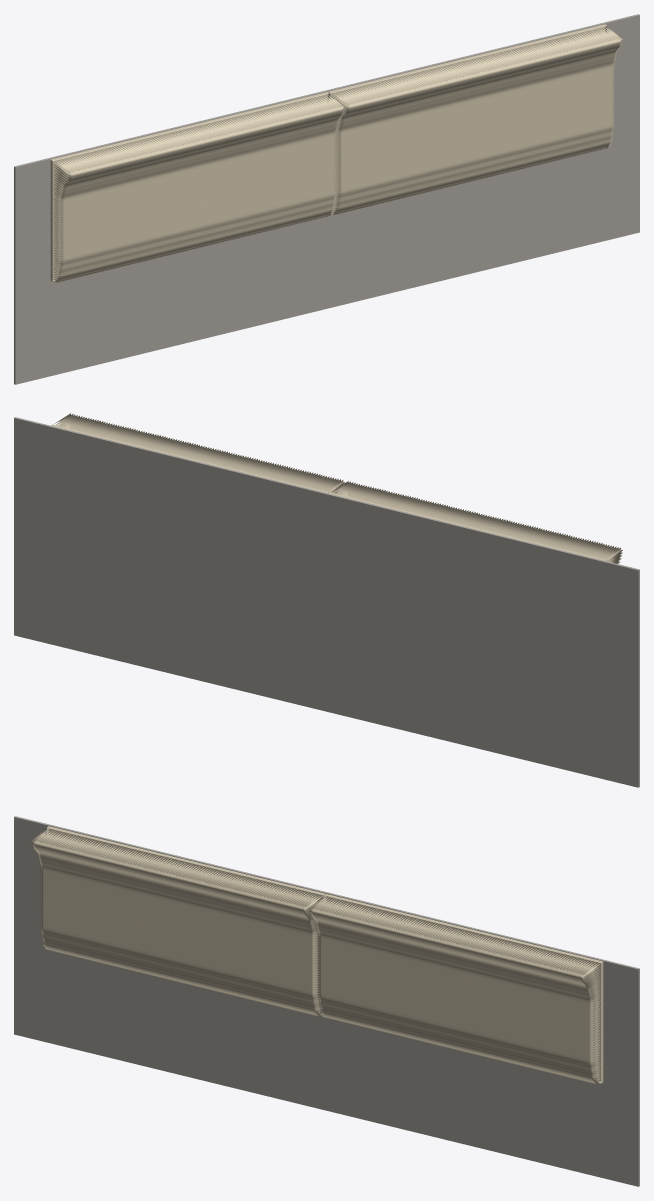
Rendered from terilgan.glb.
The picture shows the model from 3 angles, top to bottom: view 1: azimuth 30°, elevation 25°; view 2: azimuth 150°, elevation 25°; view 3: azimuth 330°, elevation 25°; orthographic projection.
Parts seen in each view (by area): view 1: Devor, t0, t1; view 2: Devor, t0, t1; view 3: Devor, t1, t0.
Boxes of the visible parts, <box> form: Devor: <box>14,14,639,384</box>; t0: <box>50,92,345,282</box>; t1: <box>328,24,622,214</box>; Devor: <box>14,417,639,787</box>; t0: <box>328,481,622,563</box>; t1: <box>51,413,345,493</box>; Devor: <box>14,816,639,1186</box>; t1: <box>308,894,603,1084</box>; t0: <box>31,826,325,1017</box>.
Size of the model in its own units: 2.71 by 0.9 by 0.1471.
